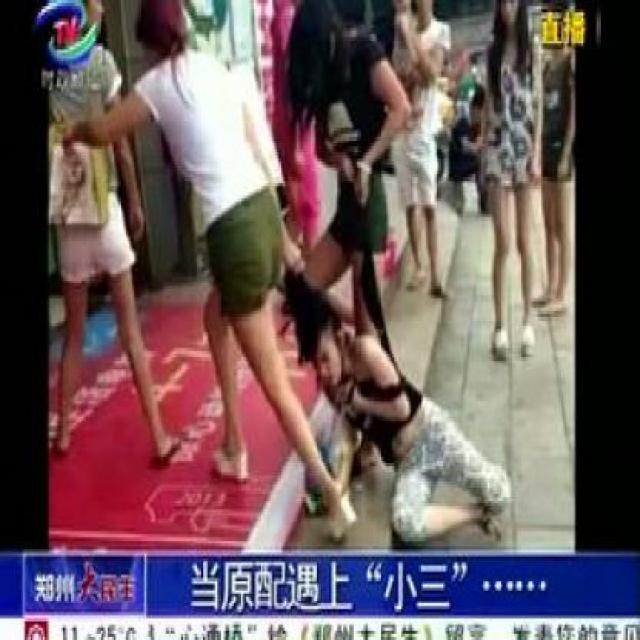fall: (272, 285, 516, 538)
